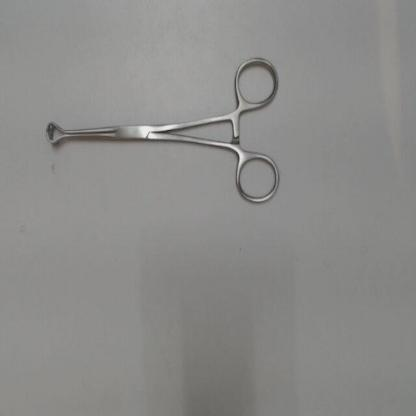Babcock Tissue Forceps: (40, 52, 283, 207)
